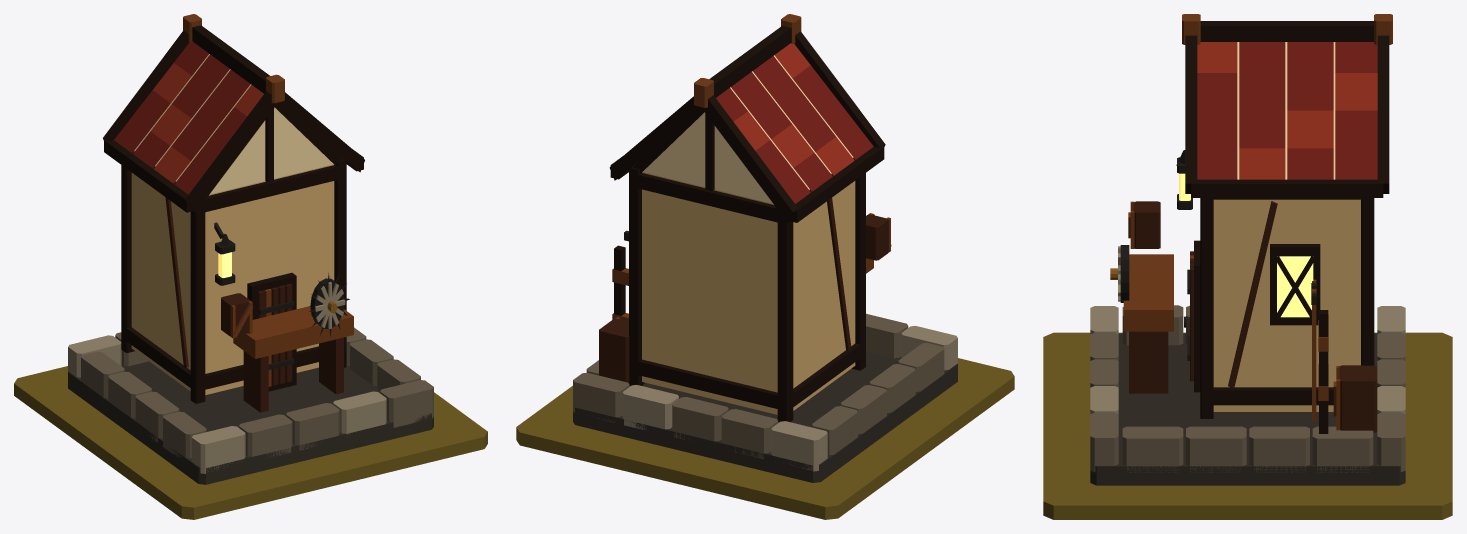
Rendered from workshop_t4.glb.
3 renders of one model, left to right at view 1: azimuth 30°, elevation 25°; view 2: azimuth 150°, elevation 25°; view 3: azimuth 270°, elevation 25°, orthographic. The views are drawn at different scales.
Visible parts, largest first — view 1: MMR | workshop | T04 Architecture.001, MMR | workshop | Tier 04 Ground.001; view 2: MMR | workshop | T04 Architecture.001, MMR | workshop | Tier 04 Ground.001; view 3: MMR | workshop | T04 Architecture.001, MMR | workshop | Tier 04 Ground.001.
Boxes of the visible parts, bbox=[...] form: MMR | workshop | T04 Architecture.001: bbox=[68, 14, 433, 484]; MMR | workshop | Tier 04 Ground.001: bbox=[14, 366, 487, 519]; MMR | workshop | T04 Architecture.001: bbox=[573, 14, 957, 482]; MMR | workshop | Tier 04 Ground.001: bbox=[516, 358, 1014, 519]; MMR | workshop | T04 Architecture.001: bbox=[1090, 14, 1405, 485]; MMR | workshop | Tier 04 Ground.001: bbox=[1043, 332, 1452, 519].
Size of the model in its own units: 1.3 by 1.46 by 1.3.
2 materials, 1 textured.
